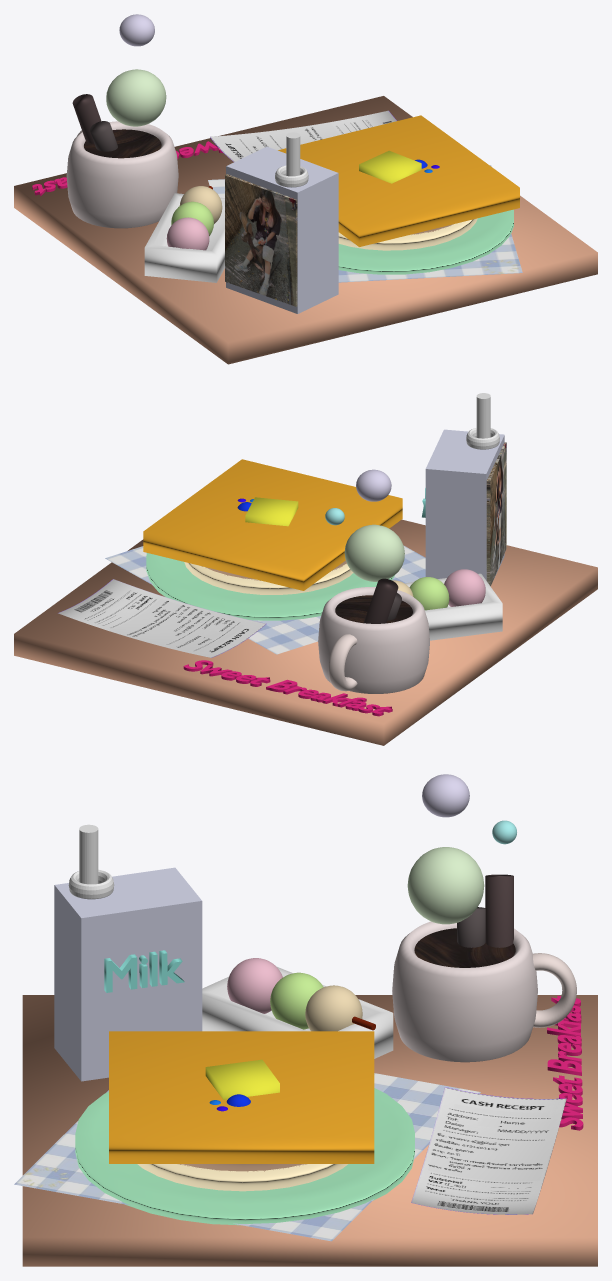
The model's file is Breakfastsyrup.glb.
3 renders of one model, top to bottom at view 1: azimuth 30°, elevation 25°; view 2: azimuth 150°, elevation 25°; view 3: azimuth 270°, elevation 25°, orthographic. The views are drawn at different scales.
Parts seen in each view (by area): view 1: Plane, Cube.004, Torus, Cube, Plane.002, Cylinder, Cube.002, SurfPatch, Sphere, Plane.001, Cylinder.003, Cylinder.001 (+10 smaller); view 2: Plane, Cube.004, Cube, SurfPatch, Torus, Cylinder, Plane.001, Sphere, Cube.002, Plane.002, Text.002, Cylinder.003 (+9 smaller); view 3: Plane, Cube.004, Cube, Cylinder, SurfPatch, Torus, Plane.001, Sphere, Cube.002, Cylinder.003, Text.002, Cylinder.001 (+12 smaller).
Part boxes in pixels (left/top/right/bottom): Plane: left=14, top=96, right=597, bottom=364; Cube.004: left=278, top=115, right=519, bottom=246; Torus: left=66, top=121, right=178, bottom=228; Cube: left=226, top=146, right=338, bottom=313; Plane.002: left=225, top=174, right=297, bottom=306; Cylinder: left=338, top=209, right=513, bottom=274; Cube.002: left=144, top=193, right=224, bottom=282; SurfPatch: left=210, top=110, right=396, bottom=162; Sphere: left=106, top=69, right=166, bottom=126; Plane.001: left=208, top=165, right=522, bottom=282; Cylinder.003: left=338, top=218, right=477, bottom=250; Cylinder.001: left=84, top=129, right=161, bottom=158; Plane: left=14, top=519, right=597, bottom=745; Cube.004: left=143, top=459, right=402, bottom=590; Cube: left=425, top=429, right=504, bottom=580; SurfPatch: left=58, top=579, right=266, bottom=657; Torus: left=318, top=587, right=429, bottom=693; Cylinder: left=146, top=553, right=395, bottom=620; Plane.001: left=105, top=545, right=425, bottom=654; Sphere: left=344, top=524, right=404, bottom=581; Cube.002: left=405, top=573, right=502, bottom=640; Plane.002: left=486, top=442, right=506, bottom=586; Text.002: left=183, top=660, right=392, bottom=716; Cylinder.003: left=184, top=562, right=353, bottom=594; Plane: left=22, top=995, right=597, bottom=1266; Cube.004: left=109, top=1031, right=374, bottom=1163; Cube: left=54, top=867, right=202, bottom=1081; Cylinder: left=75, top=1088, right=414, bottom=1225; SurfPatch: left=411, top=1087, right=566, bottom=1214; Torus: left=392, top=921, right=537, bottom=1062; Plane.001: left=14, top=1073, right=480, bottom=1241; Sphere: left=407, top=847, right=484, bottom=924; Cube.002: left=202, top=966, right=393, bottom=1058; Cylinder.003: left=137, top=1164, right=347, bottom=1191; Text.002: left=547, top=995, right=583, bottom=1130; Cylinder.001: left=414, top=928, right=515, bottom=967.
Size of the model in its own units: 12.24 by 6.7 by 12.18.
27 materials, 4 textured.
